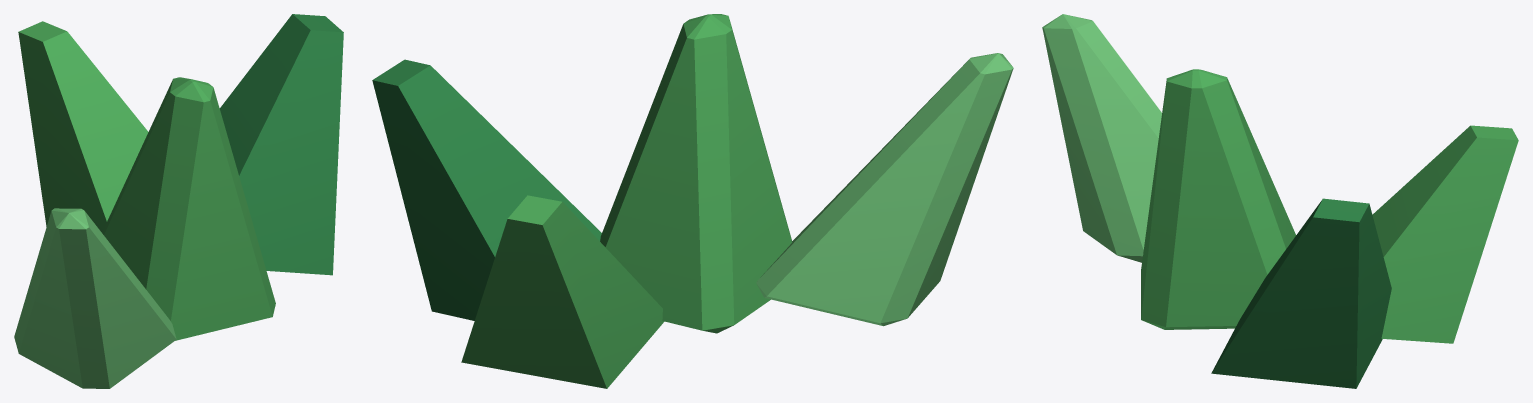
File: grass-small.glb
3 views of the same model, side by side, from view 1: azimuth 30°, elevation 25°; view 2: azimuth 150°, elevation 25°; view 3: azimuth 270°, elevation 25° (orthographic). The views are drawn at different scales.
Parts seen in each view (by area): view 1: grass-small; view 2: grass-small; view 3: grass-small.
Part boxes in pixels (box(x1,y1,x2,y2)): grass-small: box(14, 14, 343, 388); grass-small: box(372, 14, 1013, 388); grass-small: box(1042, 14, 1518, 388).
Size of the model in its own units: 0.18 by 0.1 by 0.18.
